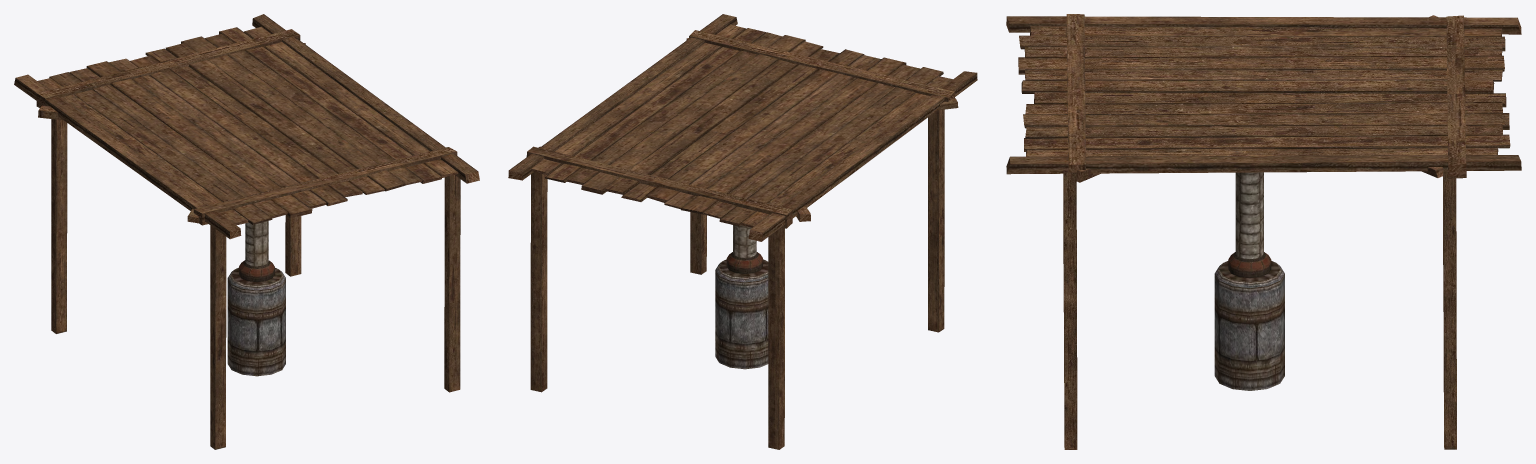
File: o_mdl_plateformwoodlargepillar-transformed.glb
3 views of the same model, side by side, from view 1: azimuth 30°, elevation 25°; view 2: azimuth 150°, elevation 25°; view 3: azimuth 270°, elevation 25° (orthographic). The views are drawn at different scales.
Parts seen in each view (by area): view 1: default; view 2: default; view 3: default.
Boxes of the visible parts, bbox=[...] form: default: bbox=[14, 14, 479, 449]; default: bbox=[508, 14, 977, 449]; default: bbox=[1006, 14, 1521, 449].
Bounding box in the file's own units: 10.12 × 8.49 × 13.88.
Materials: 2 (2 with a texture image).
